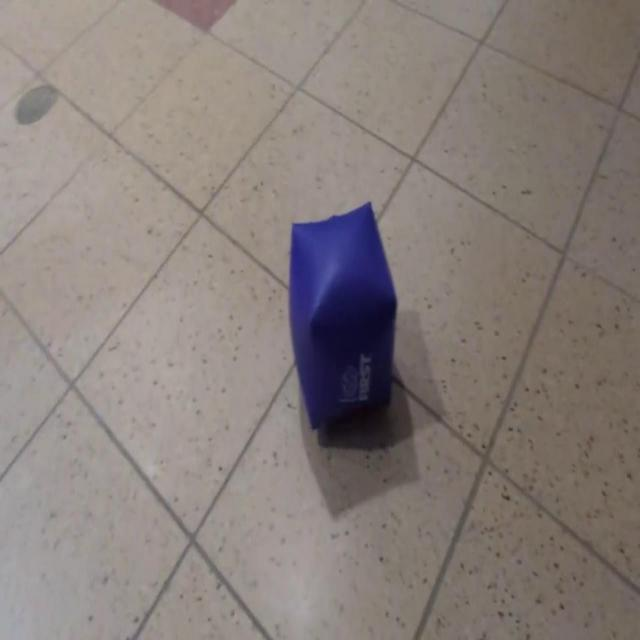frc_cube: (288, 202, 398, 426)
